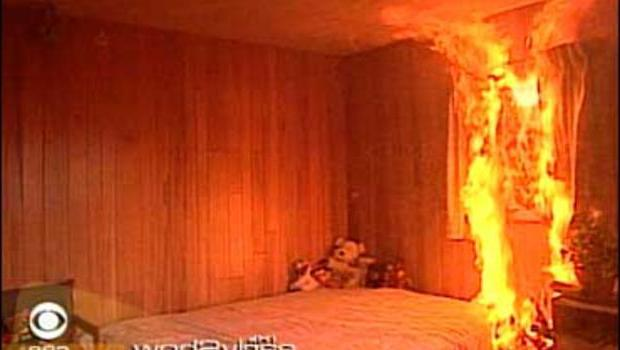fire: (394, 4, 589, 345)
